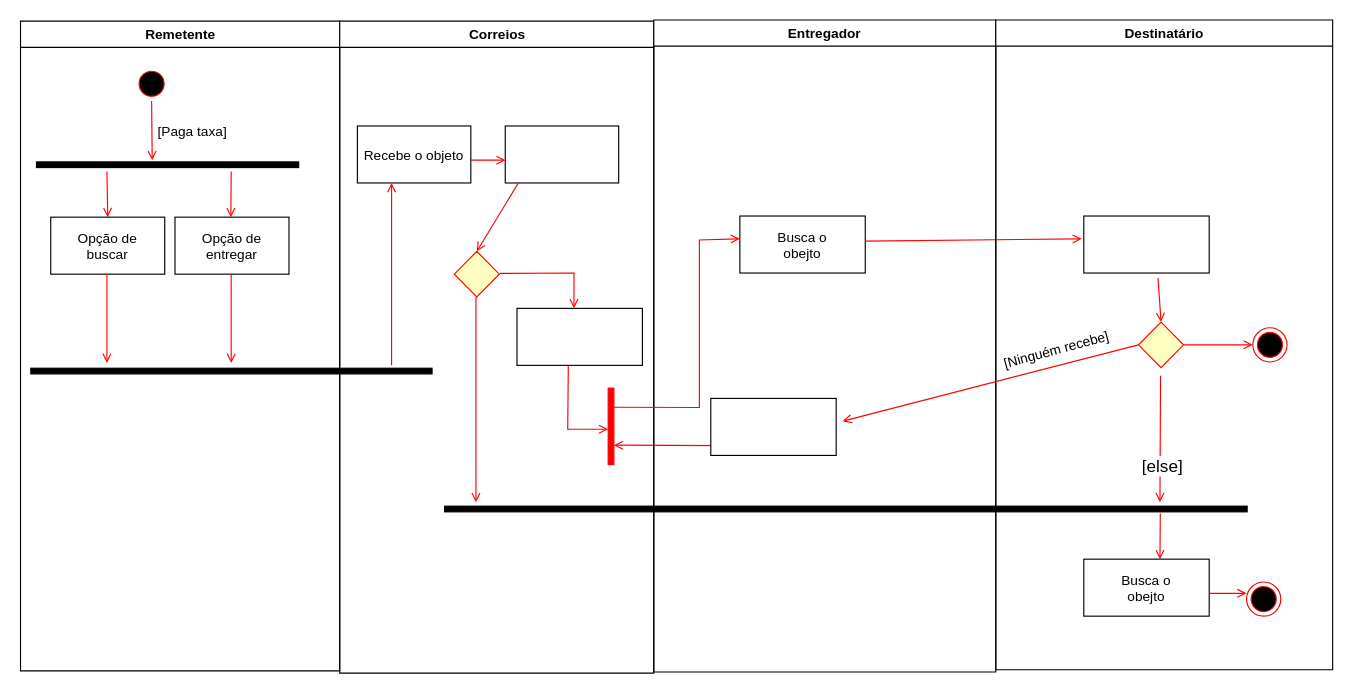
Some shapes in this 1352 by 693 pixel diagram are drawn without their labels. Here are the shapes that lost their labels. From the top down, the centre of each, then its label:
the point at 561,154: Envia ao CD mais próximo
the point at 1146,244: Recebe objeto
the point at 579,336: Aciona entregador
the point at 773,426: Devolve aos correios
